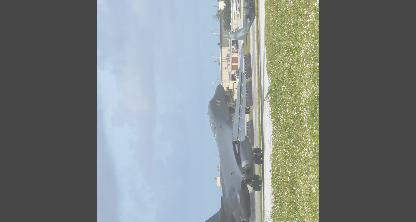AV8B: (195, 41, 264, 221)
Be200: (227, 0, 256, 47)
